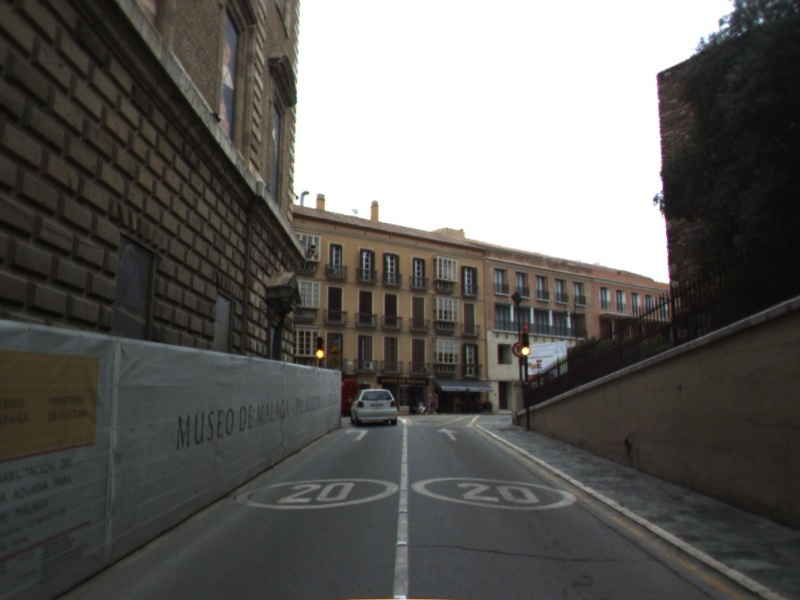LEFT: (343, 426, 371, 442)
STRAIGHT: (435, 425, 461, 442)
